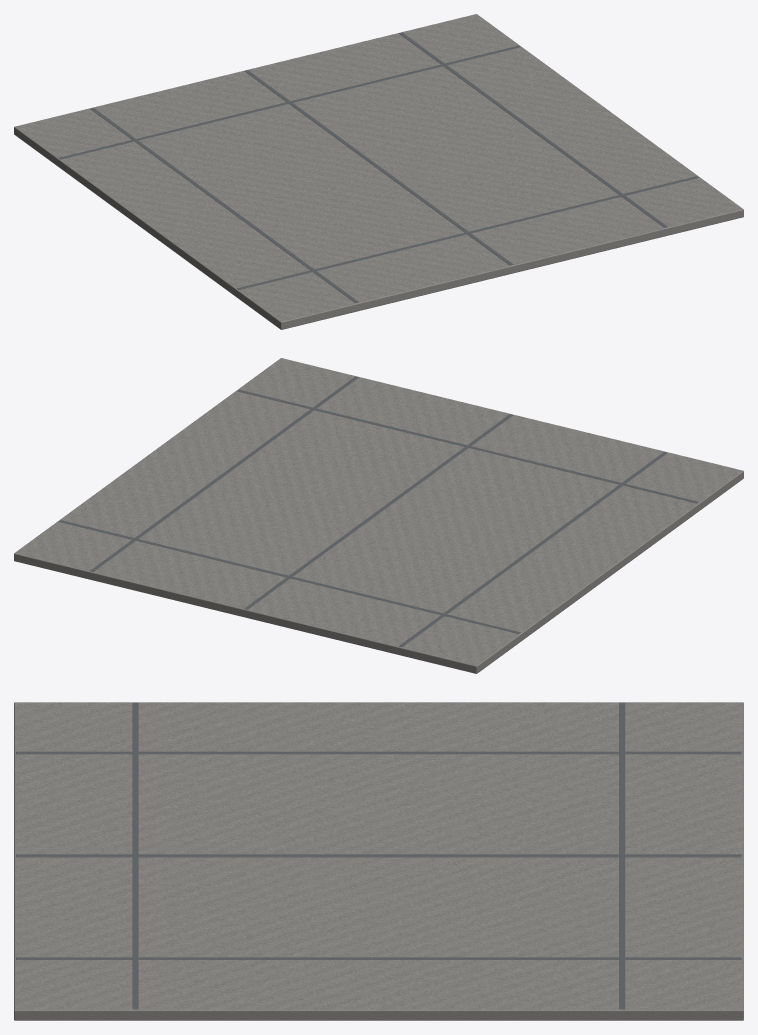
File: printing-press-and-newspaper-office-works-floor-tile-fa8677ef__37769.glb
3 renders of one model, top to bottom at view 1: azimuth 30°, elevation 25°; view 2: azimuth 150°, elevation 25°; view 3: azimuth 270°, elevation 25°, orthographic. The views are drawn at different scales.
Parts seen in each view (by area): view 1: works-floor-tile; view 2: works-floor-tile; view 3: works-floor-tile.
Part boxes in pixels (x1,y1,x2,y2): works-floor-tile: (14, 14, 743, 329); works-floor-tile: (14, 358, 743, 673); works-floor-tile: (14, 702, 743, 1020).
Size of the model in its own units: 6 by 0.104 by 6.
2 materials, 1 textured.
